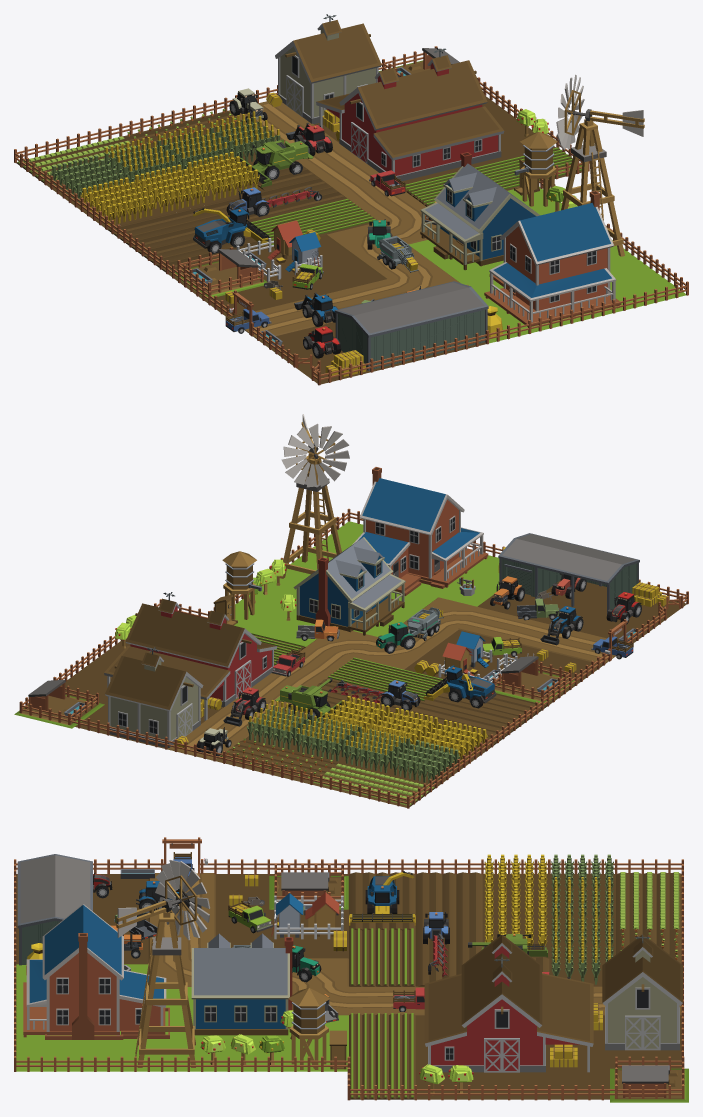
The model's file is Farm.fbx.
The picture shows the model from 3 angles, top to bottom: view 1: azimuth 30°, elevation 25°; view 2: azimuth 150°, elevation 25°; view 3: azimuth 270°, elevation 25°; orthographic projection. The views are drawn at different scales.
Visible parts, largest first — view 1: Ambar, Ground, VehicleShed, Field, House 1, House 2, Ambar 2, Windmill, Road 3, Road 2, Cowshed 2, House Walls (+39 smaller); view 2: Ground, Ambar, House 2, Ambar 2, VehicleShed, Field, House 1, Windmill, Road 3, Road 2, Road 1, Cowshed 1 (+36 smaller); view 3: Ground, Ambar, Field, House 2, Ambar 2, Windmill, House 1, VehicleShed, CropField 2, CropField 1, House Walls, Cowshed 1 (+40 smaller).
Part boxes in pixels (<box>): Ambar: <box>316,48,504,181</box>; Ground: <box>168,96,685,384</box>; VehicleShed: <box>334,281,488,370</box>; Field: <box>46,137,345,273</box>; House 1: <box>489,203,616,322</box>; House 2: <box>420,152,540,270</box>; Ambar 2: <box>275,14,381,124</box>; Windmill: <box>556,74,644,256</box>; Road 3: <box>227,101,426,220</box>; Road 2: <box>325,211,459,292</box>; Cowshed 2: <box>171,247,267,298</box>; House Walls: <box>506,226,607,310</box>; Ground: <box>61,521,686,748</box>; Ambar: <box>104,592,276,720</box>; House 2: <box>293,537,405,635</box>; Ambar 2: <box>105,647,203,747</box>; VehicleShed: <box>498,533,639,613</box>; Field: <box>243,679,547,787</box>; House 1: <box>352,478,483,580</box>; Windmill: <box>279,414,349,578</box>; Road 3: <box>167,646,352,760</box>; Road 2: <box>307,597,485,669</box>; Road 1: <box>459,609,619,664</box>; Cowshed 1: <box>14,680,104,728</box>; Ground: <box>16,874,681,1099</box>; Ambar: <box>424,934,602,1072</box>; Field: <box>349,872,615,986</box>; House 2: <box>191,933,293,1035</box>; Ambar 2: <box>602,934,682,1050</box>; Windmill: <box>116,860,210,1067</box>; House 1: <box>26,904,166,1035</box>; VehicleShed: <box>17,854,92,965</box>; CropField 2: <box>349,1013,415,1099</box>; CropField 1: <box>349,928,415,986</box>; House Walls: <box>49,953,160,1031</box>; Cowshed 1: <box>610,1056,688,1102</box>.
Bounding box in the file's own units: 8350 × 3145 × 10110.
3 materials, 3 textured.
